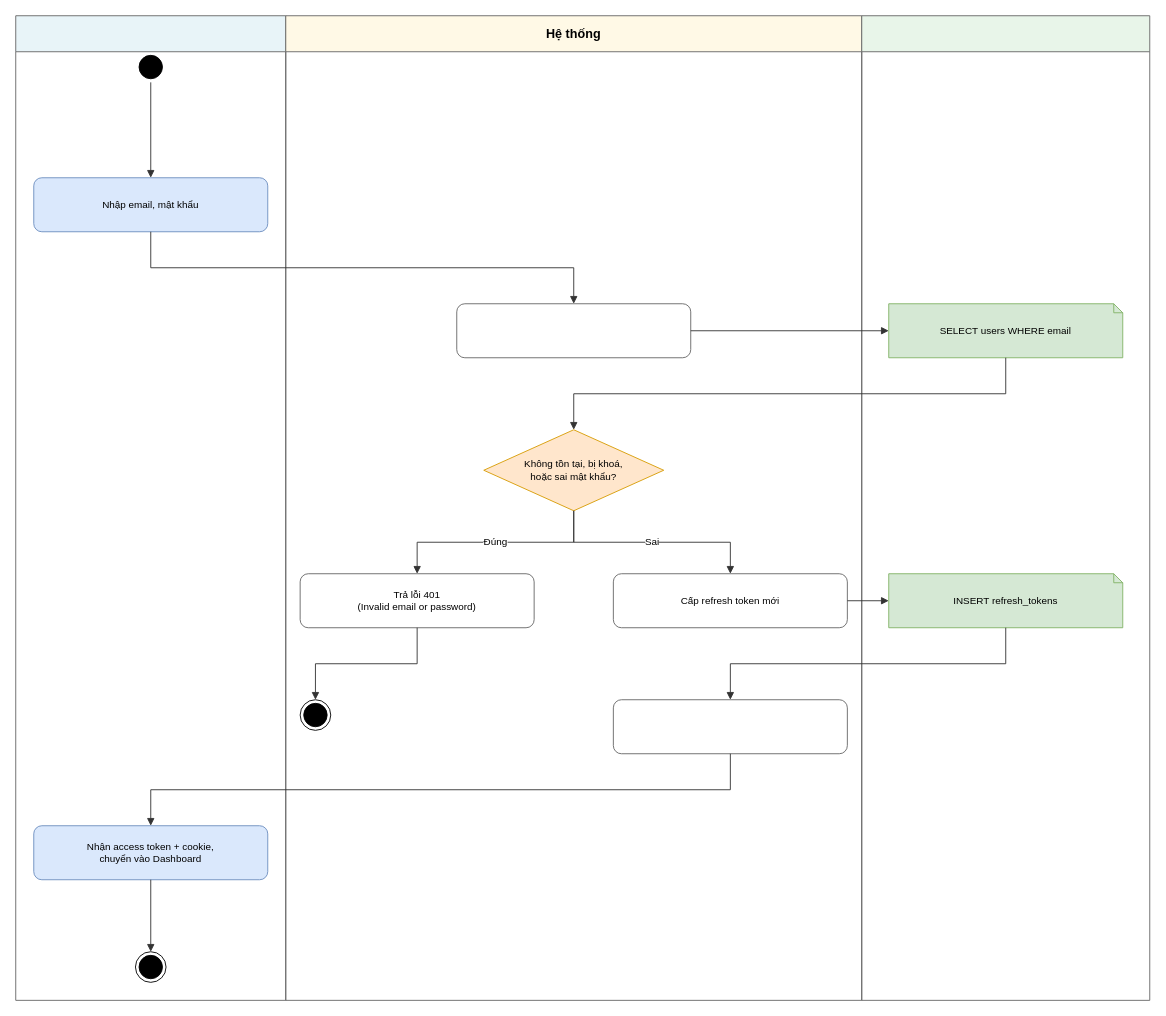
Some shapes in this 1166 by 1016 pixel diagram are drawn without their labels. Here are the shapes that lost their labels. From the top down, the box of each, then its label:
(456, 303, 691, 358): Tra tài khoản theo email
(15, 15, 286, 1000): Người dùng
(861, 15, 1150, 1000): Cơ sở dữ liệu
(612, 699, 847, 754): Tải danh sách quyền lẻ, tạo access token
